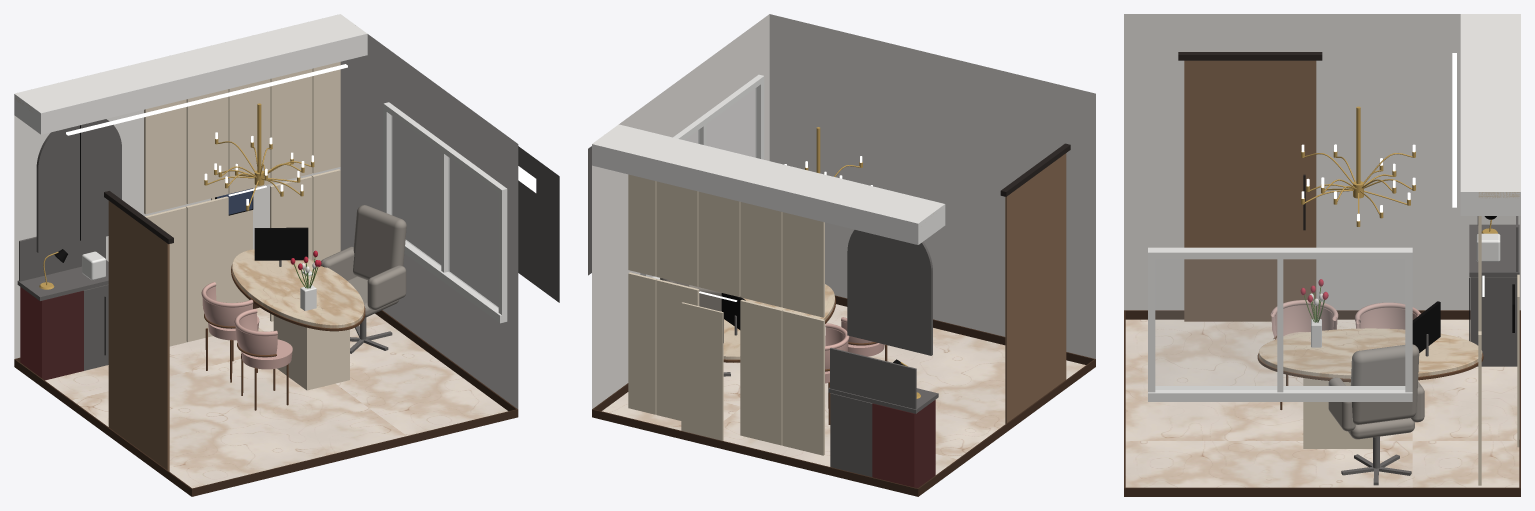
File: consultation.glb
3 renders of one model, left to right at view 1: azimuth 30°, elevation 25°; view 2: azimuth 150°, elevation 25°; view 3: azimuth 270°, elevation 25°, orthographic. The views are drawn at different scales.
Parts seen in each view (by area): view 1: shell_wall, shell_marble, wall_unit_cream, cove_ceiling, wall_unit_greyDark, sliding_door_bronzeGlass, interior_window_clearGlass, interior_window_white, desk_onyx, shell_skirting, exec_chair_greyFabric, interior_window_greyDark (+9 smaller); view 2: shell_wall, wall_unit_cream, wall_unit_greyDark, cove_ceiling, sliding_door_bronzeGlass, shell_marble, shell_skirting, wall_unit_wineGlass, interior_window_clearGlass, interior_window_white, desk_onyx, sliding_door_darkMetal (+2 smaller); view 3: shell_wall, shell_marble, sliding_door_bronzeGlass, interior_window_clearGlass, cove_ceiling, interior_window_white, desk_onyx, wall_unit_greyDark, shell_skirting, exec_chair_greyFabric, desk_cream, chandelier_gold (+9 smaller).
Boxes of the visible parts, left/top/right/bottom form: shell_wall: left=14, top=34, right=518, bottom=408; shell_marble: left=45, top=307, right=507, bottom=488; wall_unit_cream: left=16, top=62, right=340, bottom=346; cove_ceiling: left=14, top=14, right=367, bottom=134; wall_unit_greyDark: left=17, top=119, right=121, bottom=370; sliding_door_bronzeGlass: left=108, top=201, right=169, bottom=471; interior_window_clearGlass: left=391, top=115, right=498, bottom=307; interior_window_white: left=383, top=102, right=507, bottom=323; desk_onyx: left=232, top=249, right=364, bottom=328; shell_skirting: left=14, top=303, right=518, bottom=496; exec_chair_greyFabric: left=321, top=205, right=406, bottom=317; interior_window_greyDark: left=518, top=146, right=559, bottom=302; shell_wall: left=592, top=14, right=1095, bottom=408; wall_unit_cream: left=628, top=174, right=933, bottom=455; wall_unit_greyDark: left=828, top=230, right=938, bottom=476; cove_ceiling: left=592, top=124, right=945, bottom=244; sliding_door_bronzeGlass: left=1005, top=153, right=1066, bottom=423; shell_marble: left=602, top=304, right=1085, bottom=474; shell_skirting: left=592, top=295, right=1095, bottom=496; wall_unit_wineGlass: left=872, top=400, right=935, bottom=488; interior_window_clearGlass: left=649, top=88, right=756, bottom=277; interior_window_white: left=640, top=74, right=764, bottom=279; desk_onyx: left=721, top=284, right=834, bottom=359; sliding_door_darkMetal: left=1000, top=143, right=1070, bottom=196; shell_wall: left=1124, top=14, right=1520, bottom=310; shell_marble: left=1125, top=319, right=1519, bottom=487; sliding_door_bronzeGlass: left=1184, top=60, right=1316, bottom=321; interior_window_clearGlass: left=1155, top=259, right=1404, bottom=389; cove_ceiling: left=1460, top=14, right=1520, bottom=215; interior_window_white: left=1148, top=247, right=1412, bottom=401; desk_onyx: left=1259, top=328, right=1482, bottom=378; wall_unit_greyDark: left=1469, top=216, right=1519, bottom=366; shell_skirting: left=1124, top=310, right=1520, bottom=496; exec_chair_greyFabric: left=1328, top=344, right=1424, bottom=439; desk_cream: left=1303, top=378, right=1372, bottom=448; chandelier_gold: left=1301, top=106, right=1415, bottom=226.
Size of the model in its own units: 4.09 by 2.82 by 3.3.
Materials: 24 (2 with a texture image).
